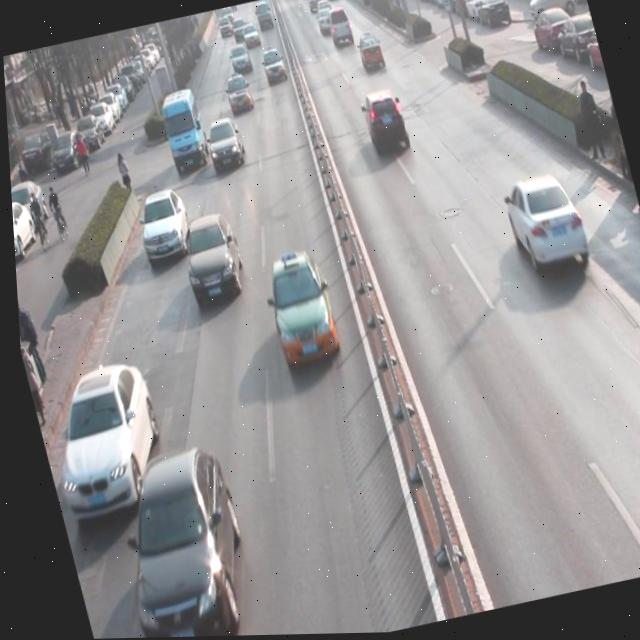car: (95, 452, 257, 639), (32, 365, 172, 519), (255, 248, 343, 377), (497, 173, 592, 288), (175, 211, 250, 312), (129, 186, 195, 266), (358, 89, 412, 161), (201, 117, 248, 177), (221, 71, 256, 119), (354, 31, 387, 75), (258, 47, 289, 89), (226, 42, 255, 80)
truck: (154, 86, 212, 179), (323, 8, 355, 50)
